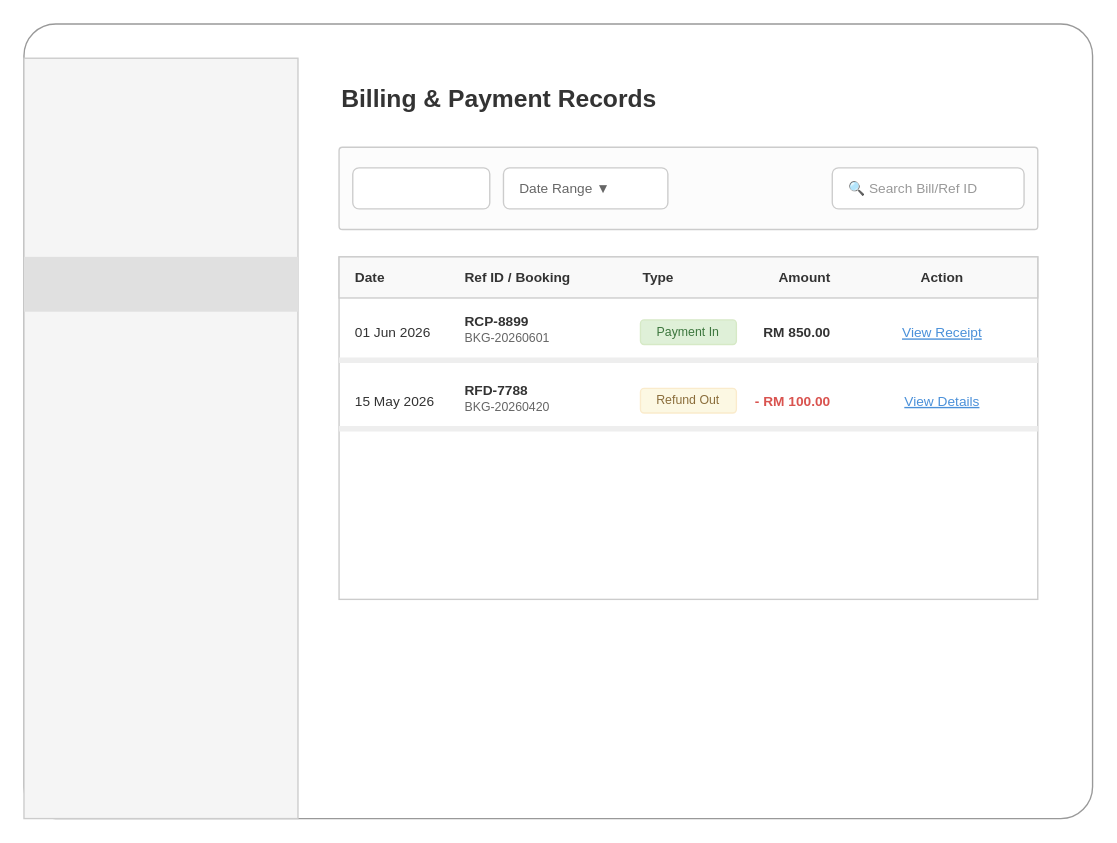
This 1117x843 diagram has some shape labels left out. Each missing label, with the centre of its shape:
"Billing & Receipts" goes at point (160, 283).
"Type: All ▼" goes at point (420, 187).
